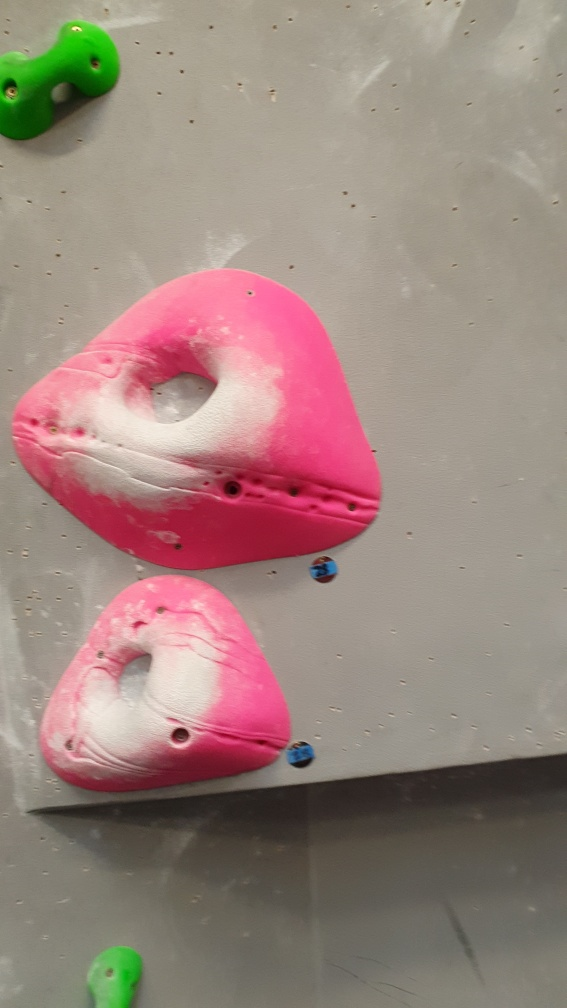Hand Start: (306, 551, 341, 590), (286, 737, 318, 771)
Pocket: (6, 262, 381, 571), (36, 571, 295, 793)
